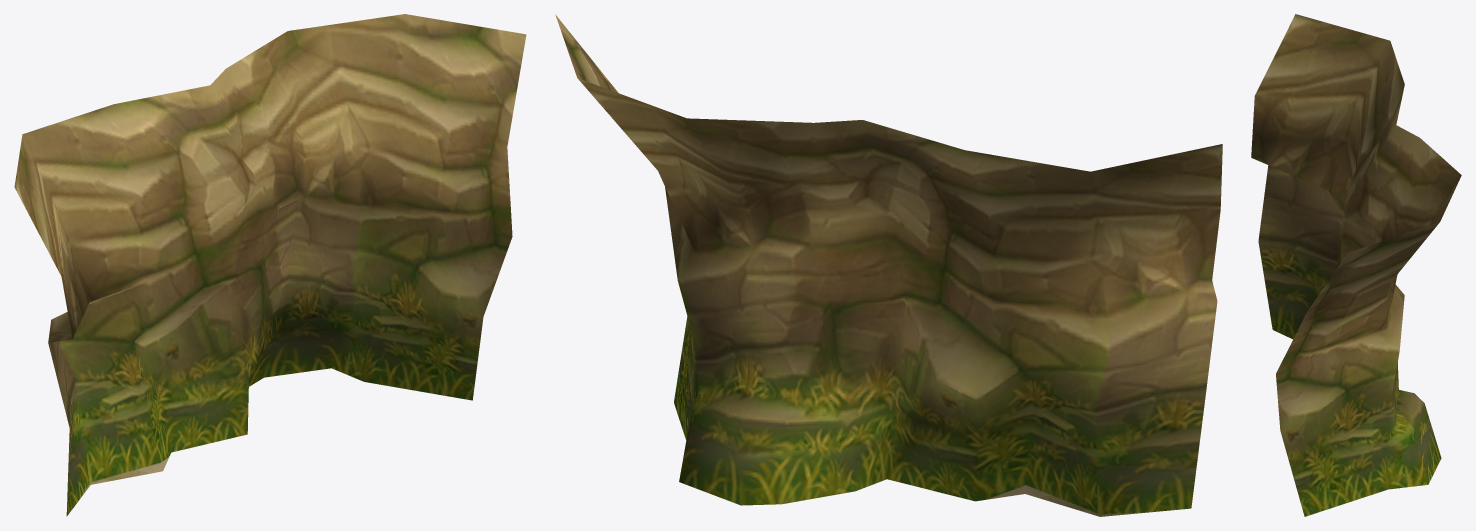
File: Map02_shanshi_01.fbx
The picture shows the model from 3 angles, left to right: view 1: azimuth 30°, elevation 25°; view 2: azimuth 150°, elevation 25°; view 3: azimuth 270°, elevation 25°; orthographic projection. The views are drawn at different scales.
Parts seen in each view (by area): view 1: Map03_shanshi_01; view 2: Map03_shanshi_01; view 3: Map03_shanshi_01.
Part boxes in pixels (x1,y1,x2,y2): Map03_shanshi_01: (14, 14, 526, 516); Map03_shanshi_01: (555, 14, 1222, 516); Map03_shanshi_01: (1251, 14, 1461, 516).
Bounding box in the file's own units: 113 × 65.71 × 42.03.
